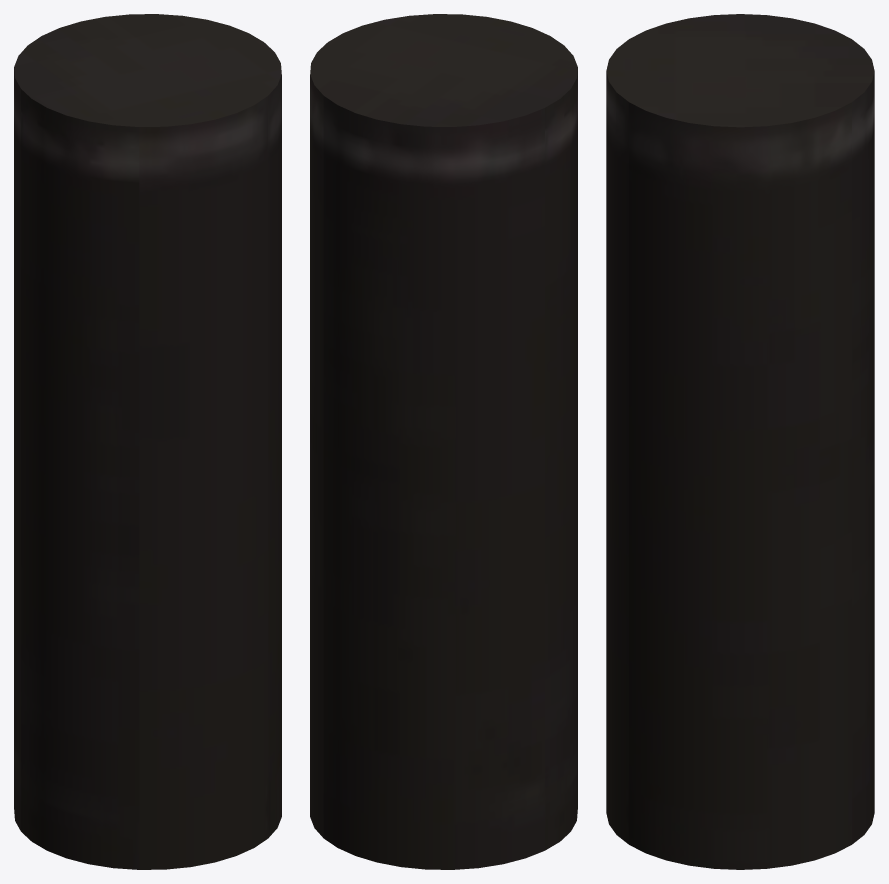
Rendered from door__pull_handle_standoff_0.glb.
3 views of the same model, side by side, from view 1: azimuth 30°, elevation 25°; view 2: azimuth 150°, elevation 25°; view 3: azimuth 270°, elevation 25° (orthographic).
Visible parts, largest first — view 1: geometry_0; view 2: geometry_0; view 3: geometry_0.
Part boxes in pixels (left/top/right/bottom): geometry_0: left=14, top=14, right=281, bottom=869; geometry_0: left=310, top=14, right=577, bottom=869; geometry_0: left=606, top=14, right=874, bottom=869.
Bounding box in the file's own units: 0.018 × 0.055 × 0.018.
1 material, 1 textured.
